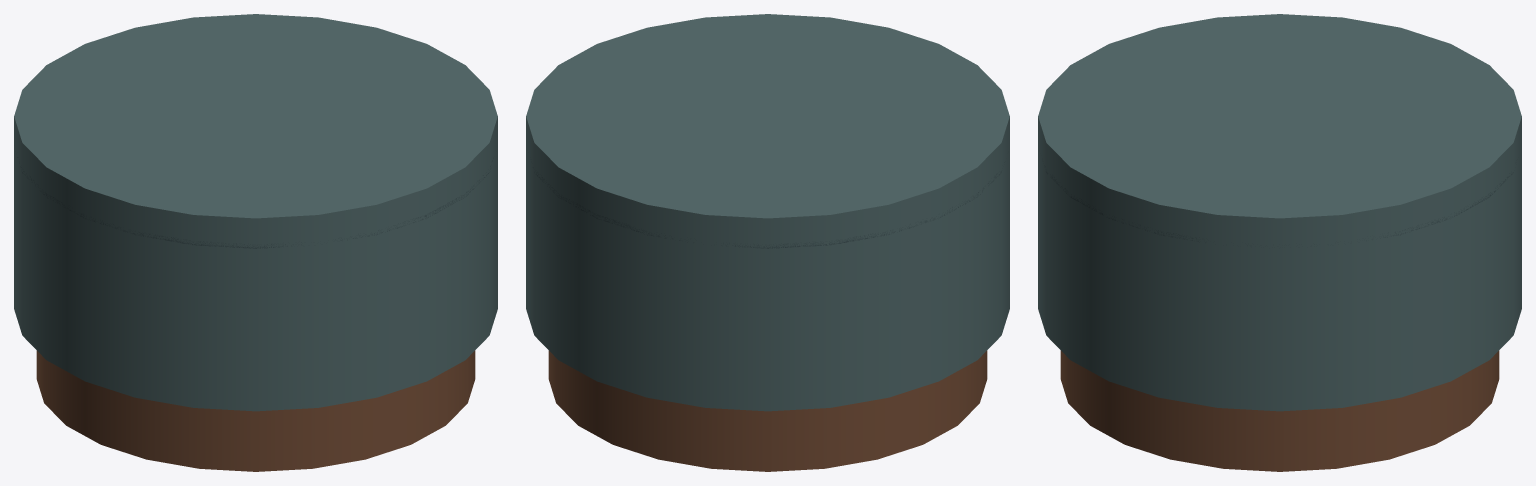
3 views of the same model, side by side, from view 1: azimuth 30°, elevation 25°; view 2: azimuth 150°, elevation 25°; view 3: azimuth 270°, elevation 25° (orthographic).
Visible parts, largest first — view 1: body, base, lid-seam; view 2: body, base, lid-seam; view 3: body, base, lid-seam.
Boxes of the visible parts, x1=… form: body: x1=14, y1=14, x2=497, y2=411; base: x1=36, y1=350, x2=475, y2=471; lid-seam: x1=17, y1=157, x2=493, y2=248; body: x1=526, y1=14, x2=1009, y2=411; base: x1=548, y1=350, x2=987, y2=471; lid-seam: x1=533, y1=162, x2=1004, y2=248; body: x1=1038, y1=14, x2=1521, y2=411; base: x1=1060, y1=350, x2=1499, y2=471; lid-seam: x1=1044, y1=165, x2=1513, y2=245.
Size of the model in its own units: 0.75 by 0.45 by 0.75.
